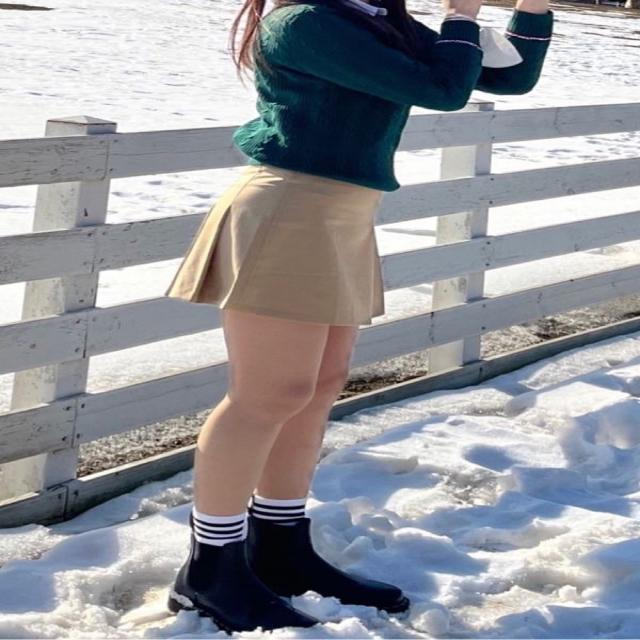longsleeve: (230, 0, 555, 194)
skirt: (168, 160, 387, 325)
